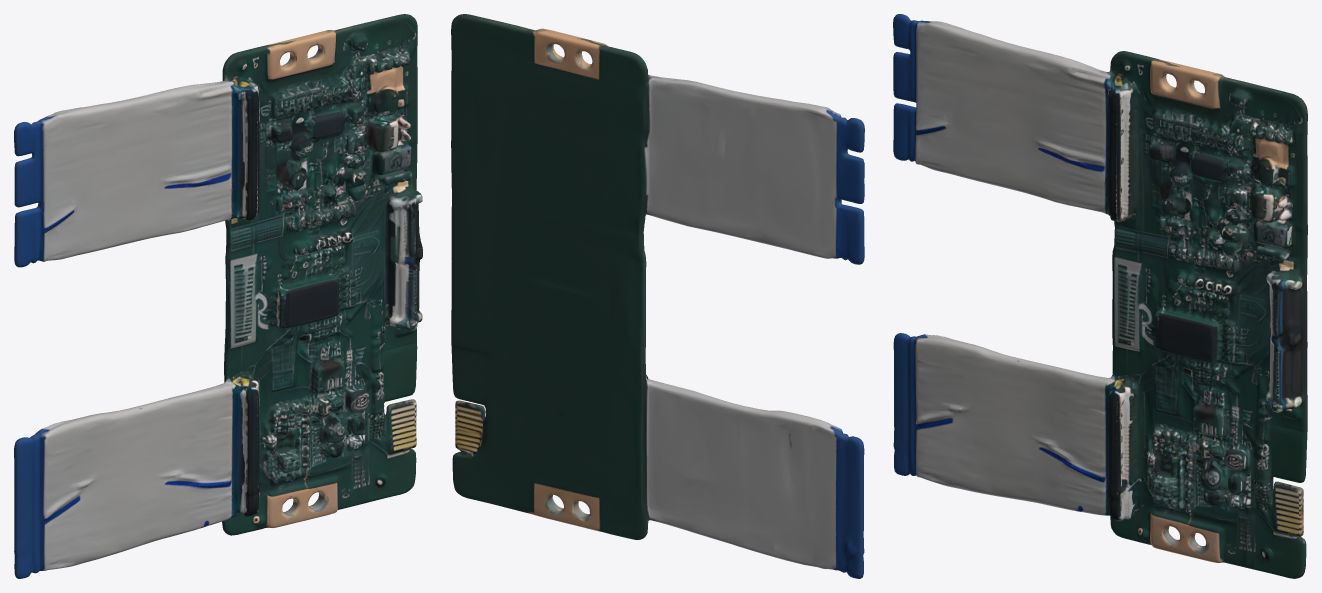
Rendered from logicboard.glb.
3 renders of one model, left to right at view 1: azimuth 30°, elevation 25°; view 2: azimuth 150°, elevation 25°; view 3: azimuth 330°, elevation 25°, orthographic.
Parts seen in each view (by area): view 1: texture_v100.001; view 2: texture_v100.001; view 3: texture_v100.001.
Part boxes in pixels (box(x1,y1,x2,y2)): texture_v100.001: box(14, 14, 422, 578); texture_v100.001: box(451, 14, 864, 578); texture_v100.001: box(893, 14, 1307, 578).
Size of the model in its own units: 0.8113 by 0.9194 by 0.0593.
1 material, 1 textured.
